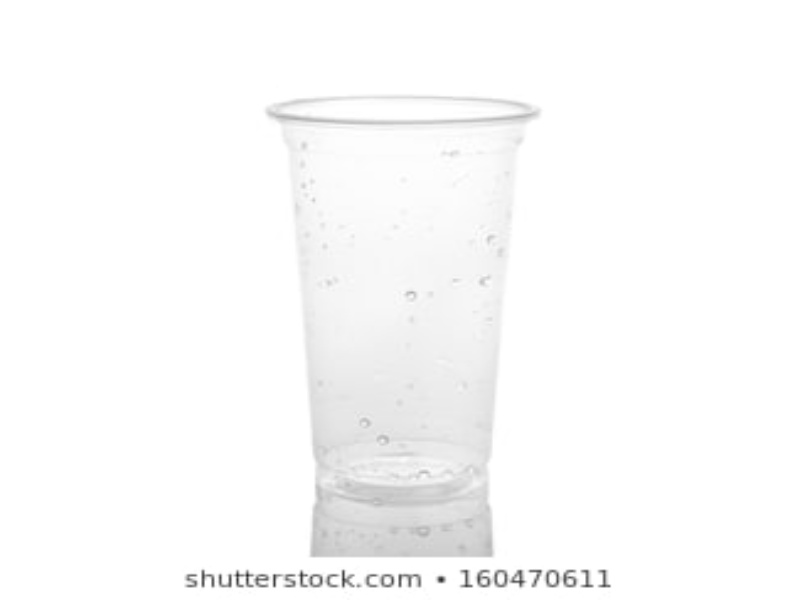plastic-cup: (263, 92, 544, 513)
